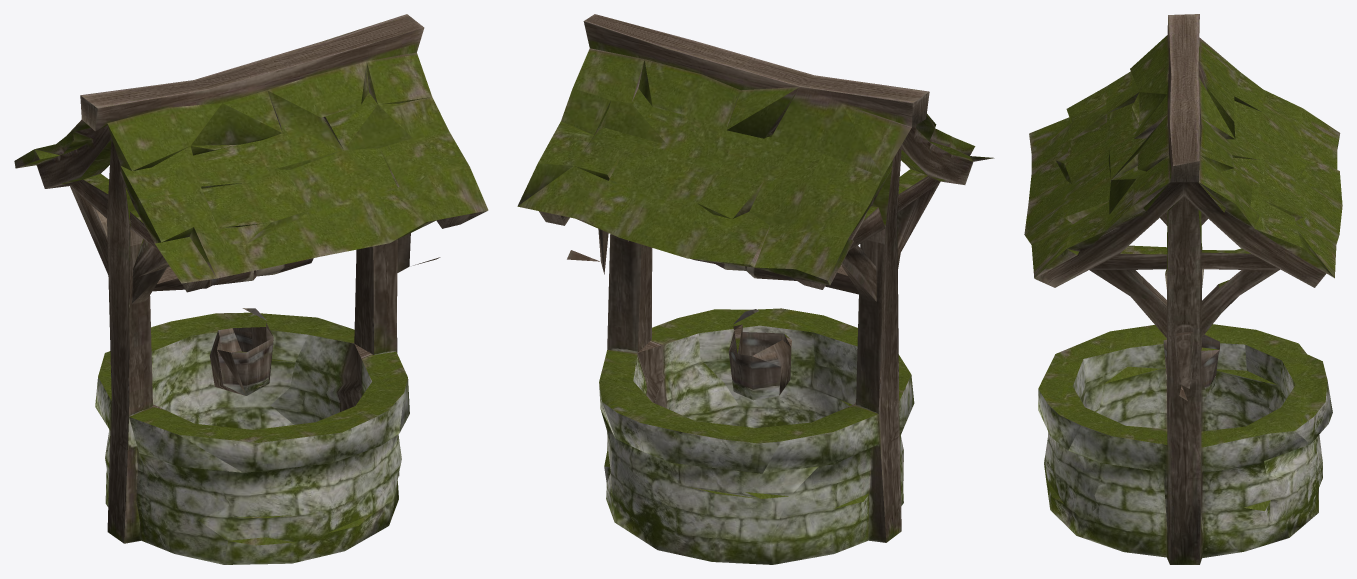
Rendered from PocoEldoria-lod1.glb.
3 renders of one model, left to right at view 1: azimuth 30°, elevation 25°; view 2: azimuth 150°, elevation 25°; view 3: azimuth 270°, elevation 25°, orthographic. The views are drawn at different scales.
Parts seen in each view (by area): view 1: PocoEldoria_LOD1; view 2: PocoEldoria_LOD1; view 3: PocoEldoria_LOD1.
Boxes of the visible parts, x1,y1,x2,y2 form: PocoEldoria_LOD1: (14, 14, 488, 564); PocoEldoria_LOD1: (517, 14, 994, 564); PocoEldoria_LOD1: (1024, 14, 1342, 564).
Size of the model in its own units: 1.56 by 1.89 by 1.31.
1 material, 1 textured.
